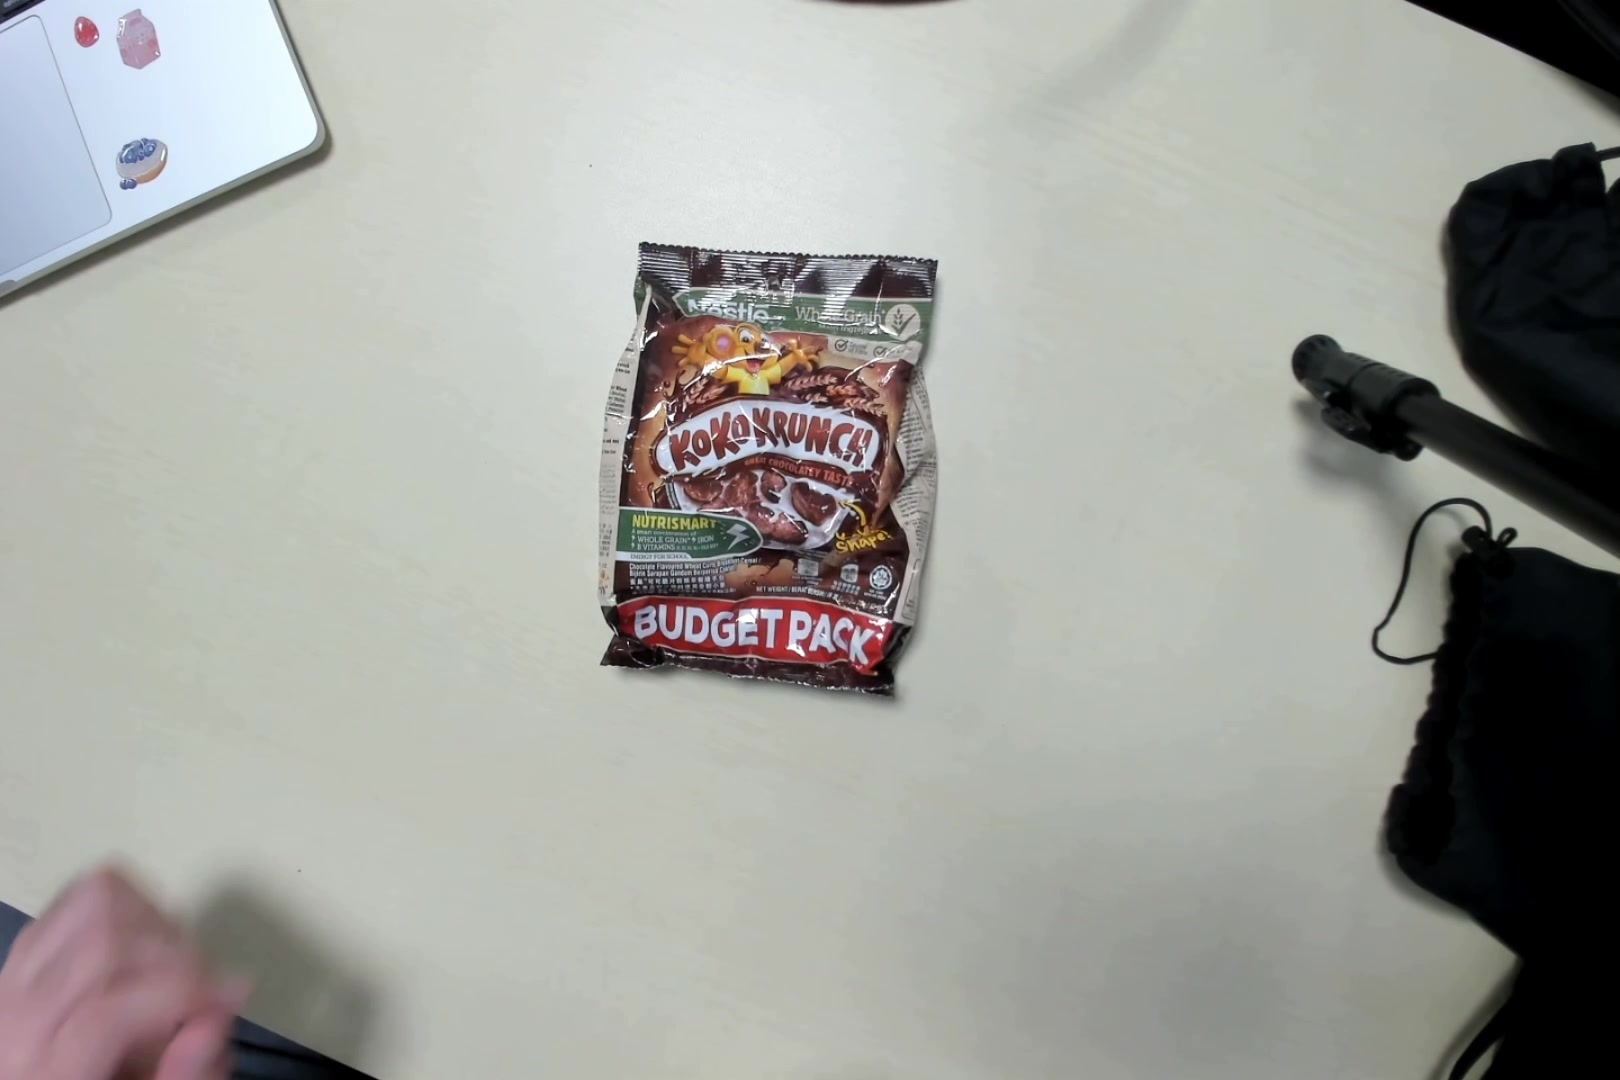BreakfastCereals_0-99g_Halal_NonHealthy: (611, 247, 917, 673)
